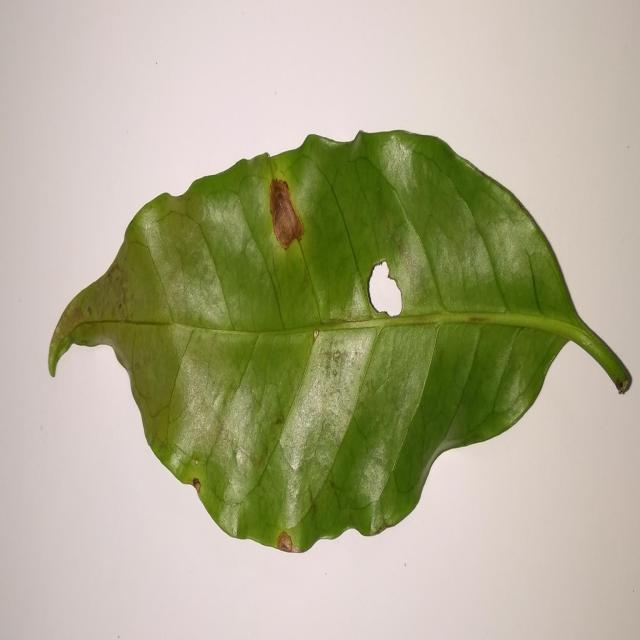Enfermedad-Antracnosis: (46, 131, 633, 556)
